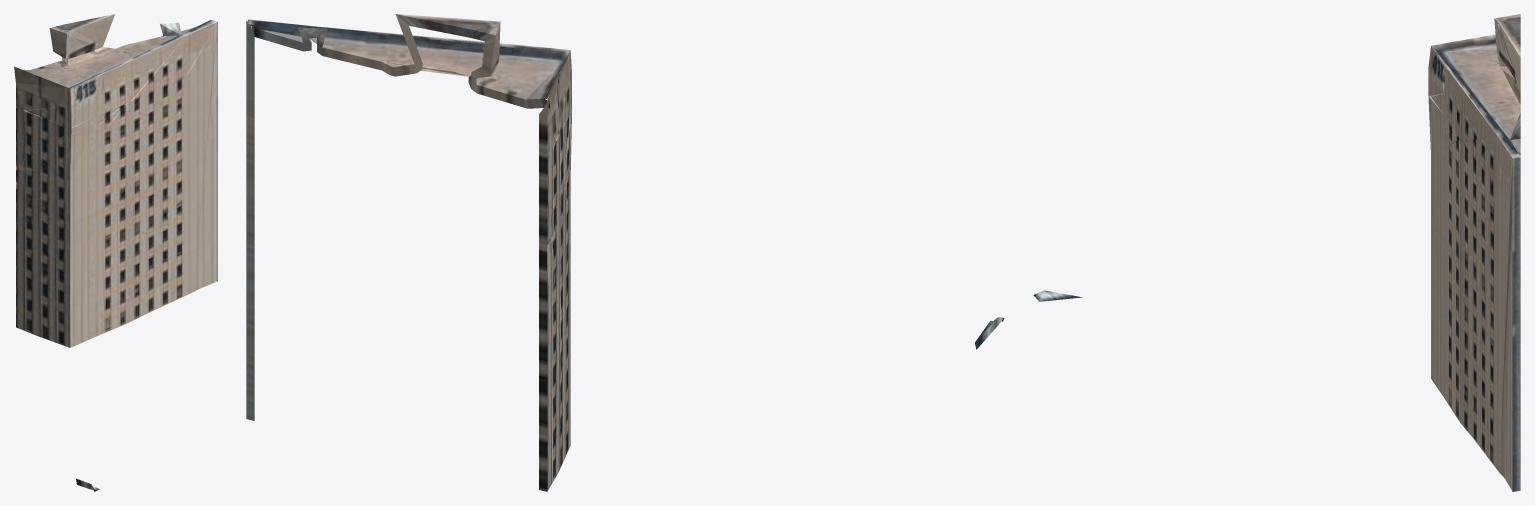
File: chunk_-4_-9.glb
3 renders of one model, left to right at view 1: azimuth 30°, elevation 25°; view 2: azimuth 150°, elevation 25°; view 3: azimuth 270°, elevation 25°, orthographic. The views are drawn at different scales.
Visible parts, largest first — view 1: hero-chunk; view 2: hero-chunk; view 3: hero-chunk.
Part boxes in pixels (x1=…): hero-chunk: x1=14, y1=14, x2=217, y2=491; hero-chunk: x1=246, y1=14, x2=1004, y2=491; hero-chunk: x1=1033, y1=14, x2=1520, y2=491.
Bounding box in the file's own units: 54.5 × 49.1 × 56.94.
Materials: 1 (1 with a texture image).
